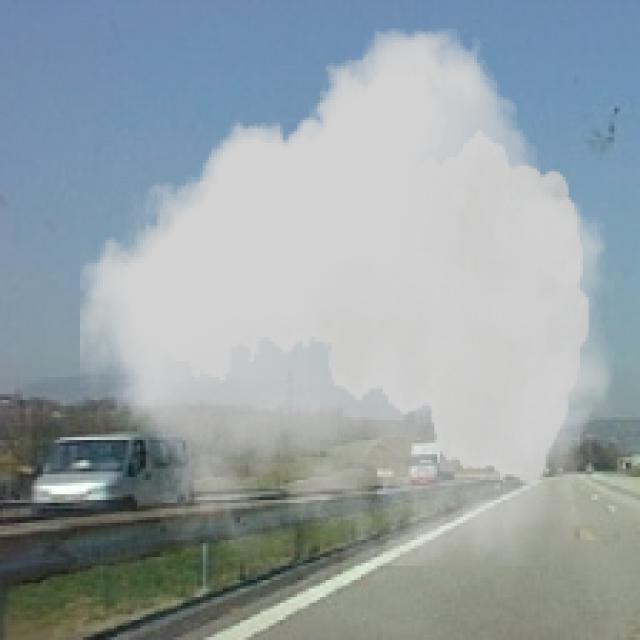smoke: (80, 28, 614, 566)
